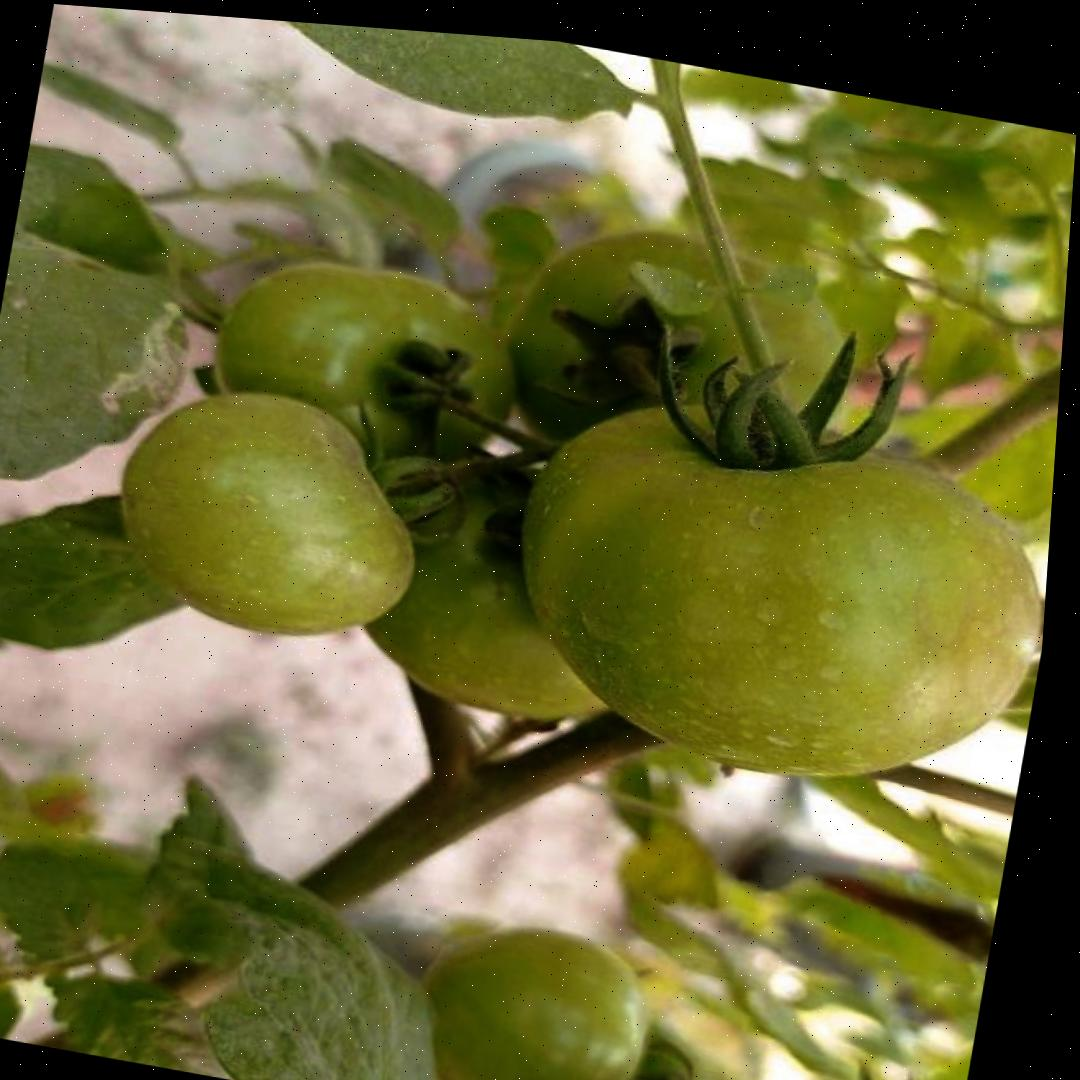mentah: (487, 369, 1058, 820), (99, 365, 447, 662), (198, 237, 536, 488), (396, 902, 665, 1080)
